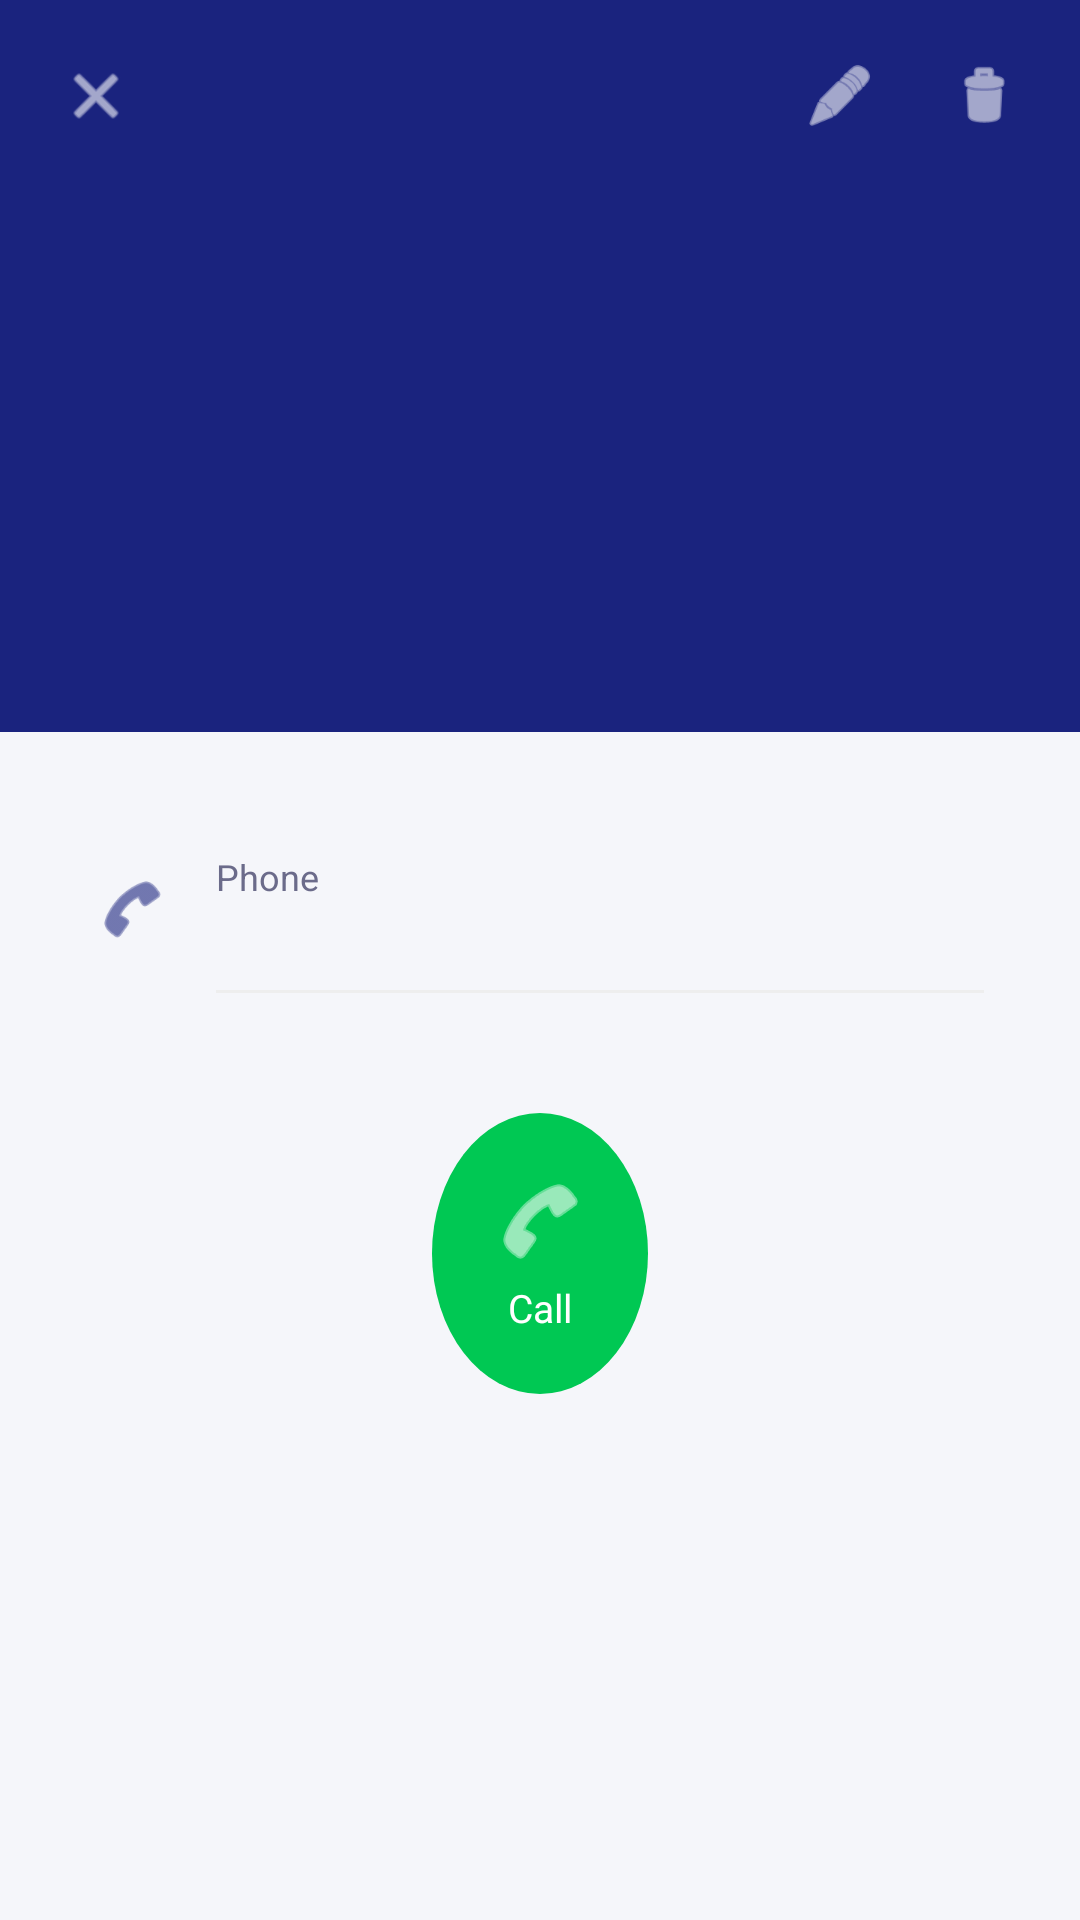

Icons on this 1080px x 1920px Android screen, each with the point to tap as (x,y):
close clear cancel: (96,96)
delete: (984,95)
edit: (839,95)
